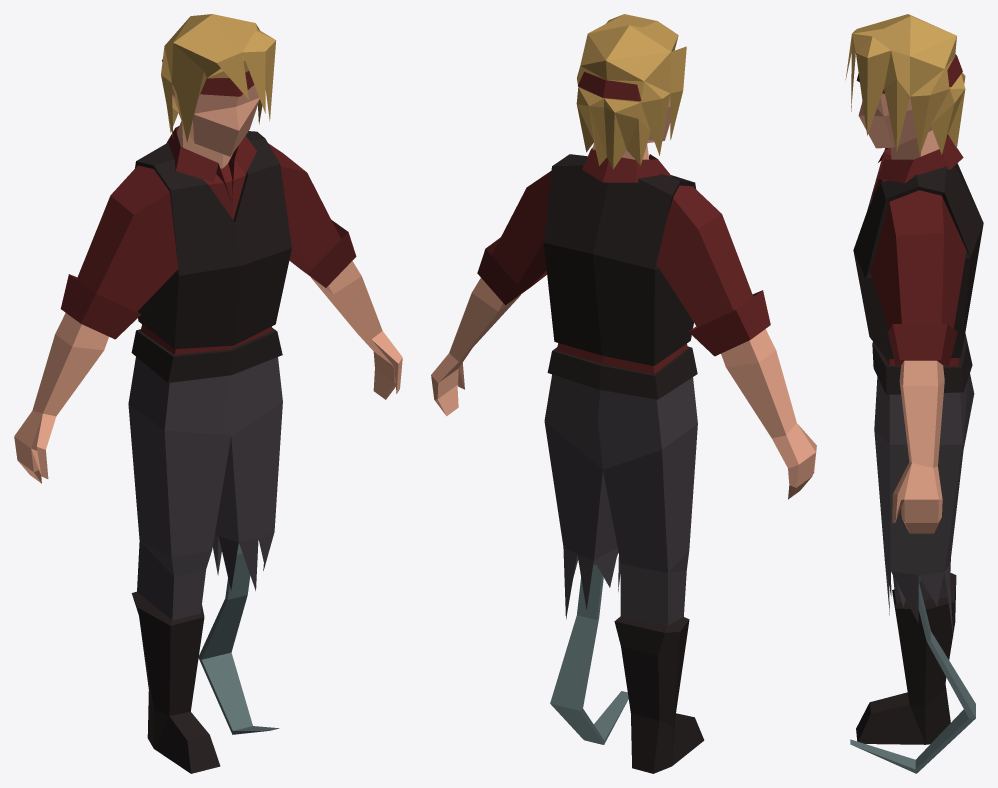
The model's file is Hauke.fbx.
3 views of the same model, side by side, from view 1: azimuth 30°, elevation 25°; view 2: azimuth 150°, elevation 25°; view 3: azimuth 270°, elevation 25° (orthographic).
Visible parts, largest first — view 1: Body; view 2: Body; view 3: Body.
Part boxes in pixels (left/top/right/bottom): Body: left=14, top=14, right=402, bottom=773; Body: left=431, top=14, right=816, bottom=773; Body: left=845, top=14, right=983, bottom=773.
Bounding box in the file's own units: 265 × 1558 × 829.
